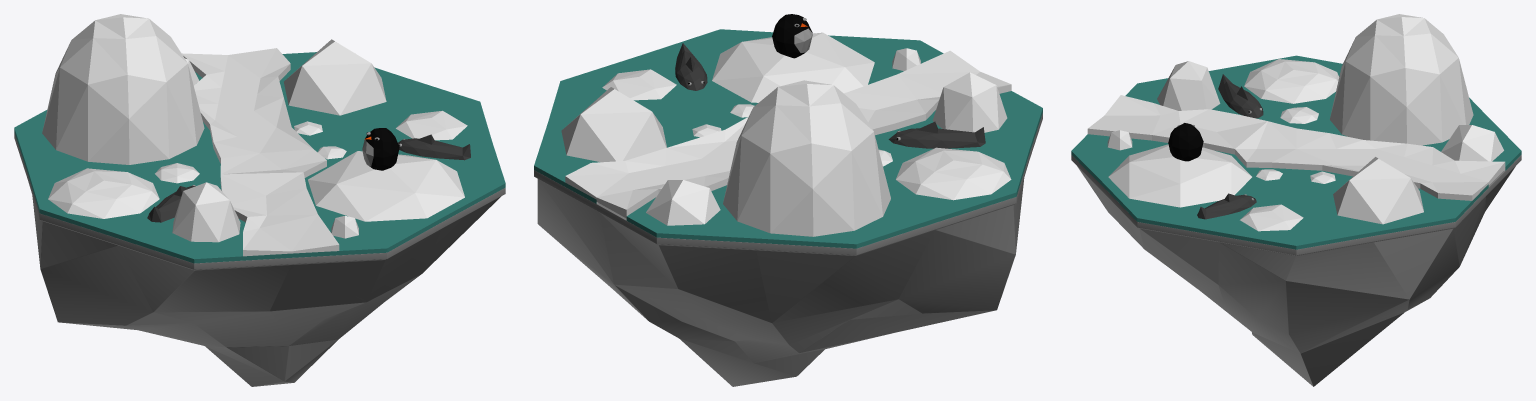
Rendered from Ice_planet_base_001.FBX.
3 renders of one model, left to right at view 1: azimuth 30°, elevation 25°; view 2: azimuth 150°, elevation 25°; view 3: azimuth 270°, elevation 25°, orthographic. The views are drawn at different scales.
Visible parts, largest first — view 1: 001_ICE PLANET; view 2: 001_ICE PLANET; view 3: 001_ICE PLANET.
Part boxes in pixels (<box>): 001_ICE PLANET: <box>14,14,505,386</box>; 001_ICE PLANET: <box>534,14,1042,386</box>; 001_ICE PLANET: <box>1071,14,1521,386</box>.
Bounding box in the file's own units: 16.22 × 12.61 × 16.22.
